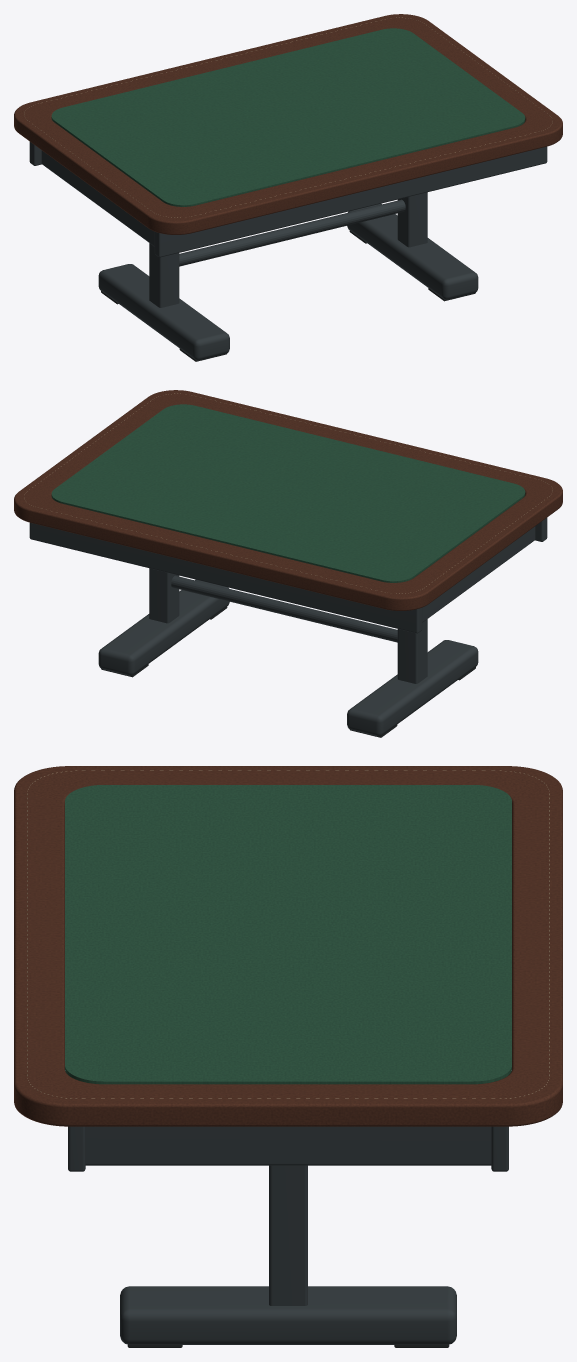
File: rooftop-table.glb
3 renders of one model, top to bottom at view 1: azimuth 30°, elevation 25°; view 2: azimuth 150°, elevation 25°; view 3: azimuth 270°, elevation 25°, orthographic. The views are drawn at different scales.
Parts seen in each view (by area): view 1: TerraceTable_fabric, TerraceTable_leather, TerraceTable_steel; view 2: TerraceTable_fabric, TerraceTable_leather, TerraceTable_steel; view 3: TerraceTable_fabric, TerraceTable_leather, TerraceTable_steel, TerraceTable_stitch.
Part boxes in pixels (box(x1,y1,x2,y2)): TerraceTable_fabric: box(51, 28, 525, 206); TerraceTable_leather: box(14, 14, 562, 234); TerraceTable_steel: box(29, 141, 547, 360); TerraceTable_fabric: box(51, 404, 525, 582); TerraceTable_leather: box(14, 390, 562, 610); TerraceTable_steel: box(29, 517, 547, 736); TerraceTable_fabric: box(65, 785, 511, 1084); TerraceTable_leather: box(14, 766, 562, 1126); TerraceTable_steel: box(68, 1126, 508, 1344); TerraceTable_stitch: box(27, 770, 549, 1098).
Bounding box in the file's own units: 2.05 × 0.842 × 1.4.
6 materials, 2 textured.
